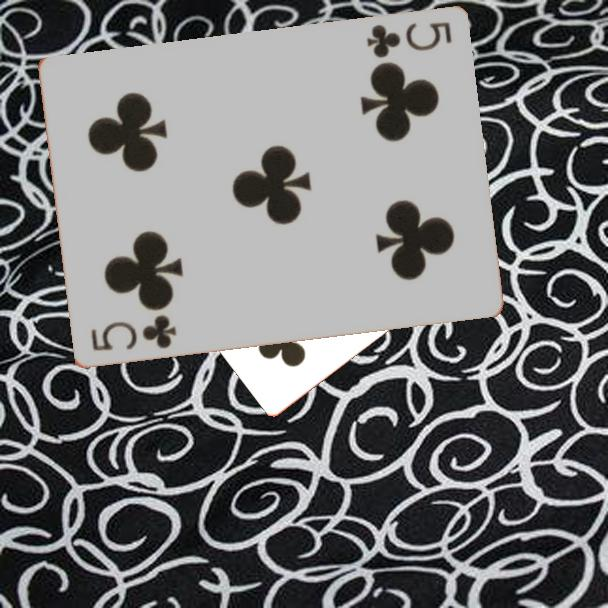c05: (362, 19, 455, 62), (87, 312, 179, 355)
